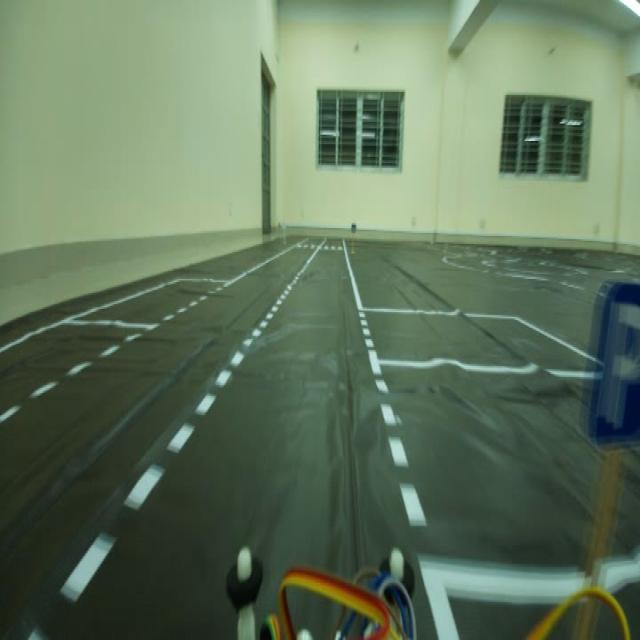parking: (580, 284, 640, 442)
